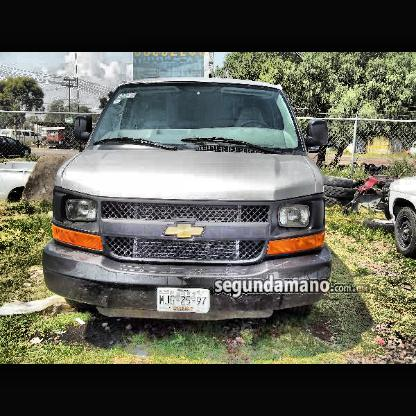Chevrolet Express Cargo Van 2007: (46, 81, 331, 321)
